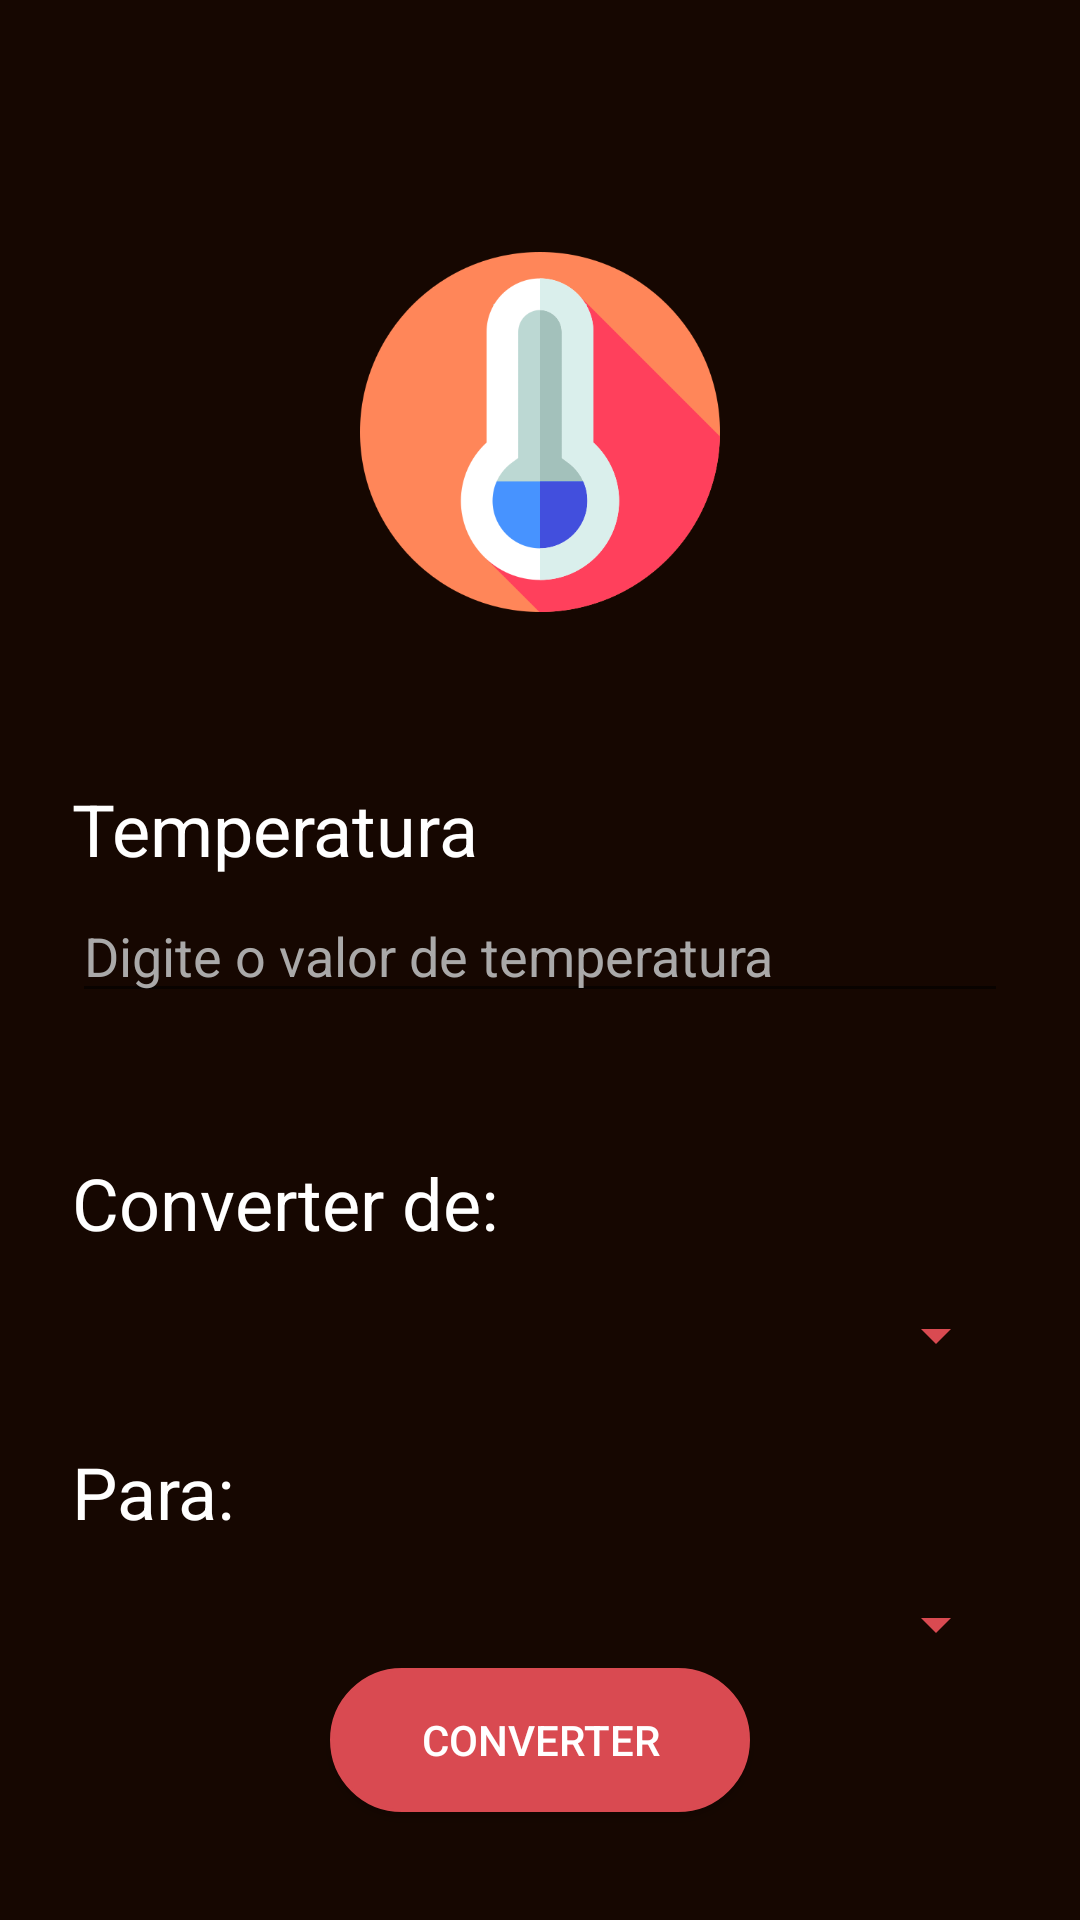

Point at icon controls on the screen. Image size 1080 × 1920, points as point (x, y).
thermometer: point (540, 432)
